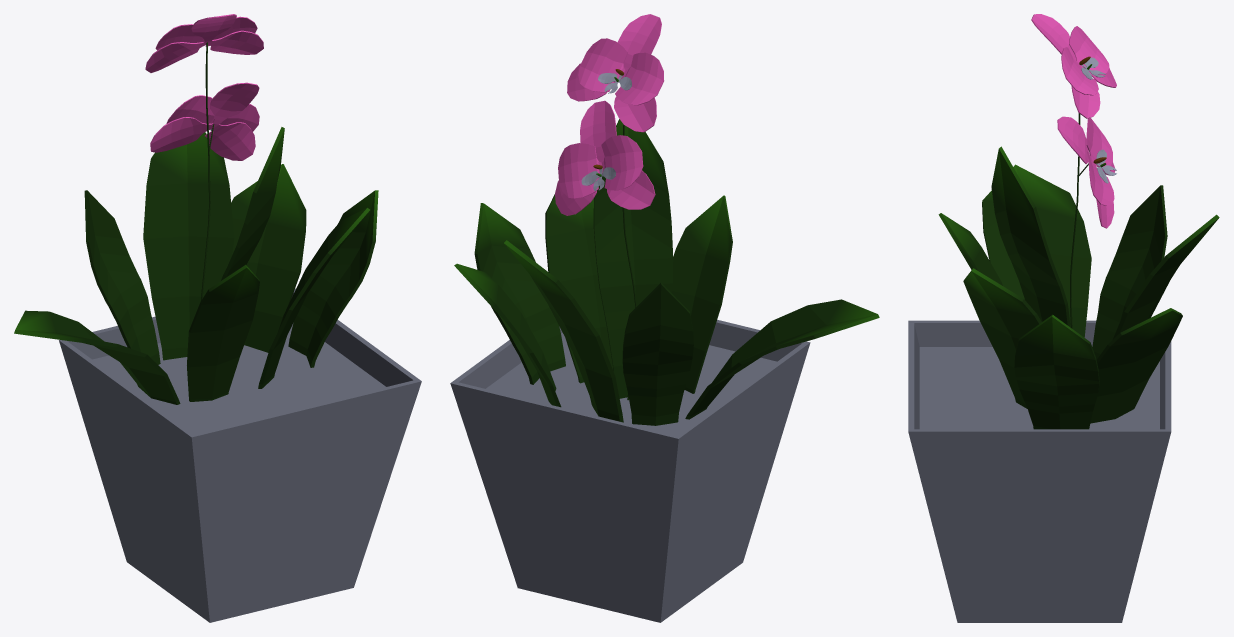
Rendered from small plant.fbx.
3 renders of one model, left to right at view 1: azimuth 30°, elevation 25°; view 2: azimuth 150°, elevation 25°; view 3: azimuth 270°, elevation 25°, orthographic.
Parts seen in each view (by area): view 1: plantsmall; view 2: plantsmall; view 3: plantsmall.
Part boxes in pixels (bbox=[...]): plantsmall: bbox=[14, 14, 421, 622]; plantsmall: bbox=[450, 14, 879, 622]; plantsmall: bbox=[908, 14, 1219, 622].
Bounding box in the file's own units: 8.19 × 11.57 × 5.82.
